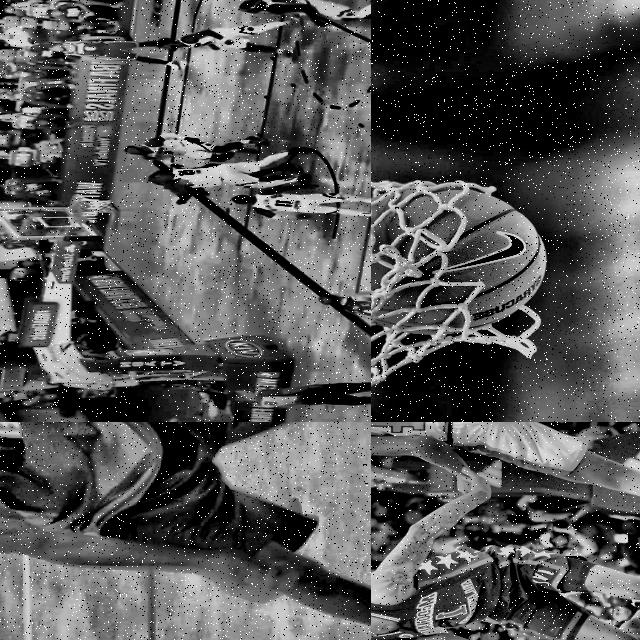Basketball: (371, 183, 546, 334), (76, 204, 86, 211)
